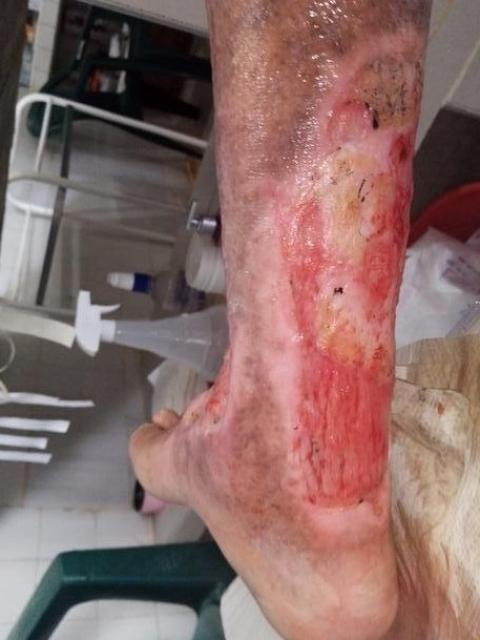wound: (278, 97, 413, 515), (203, 346, 232, 430)
